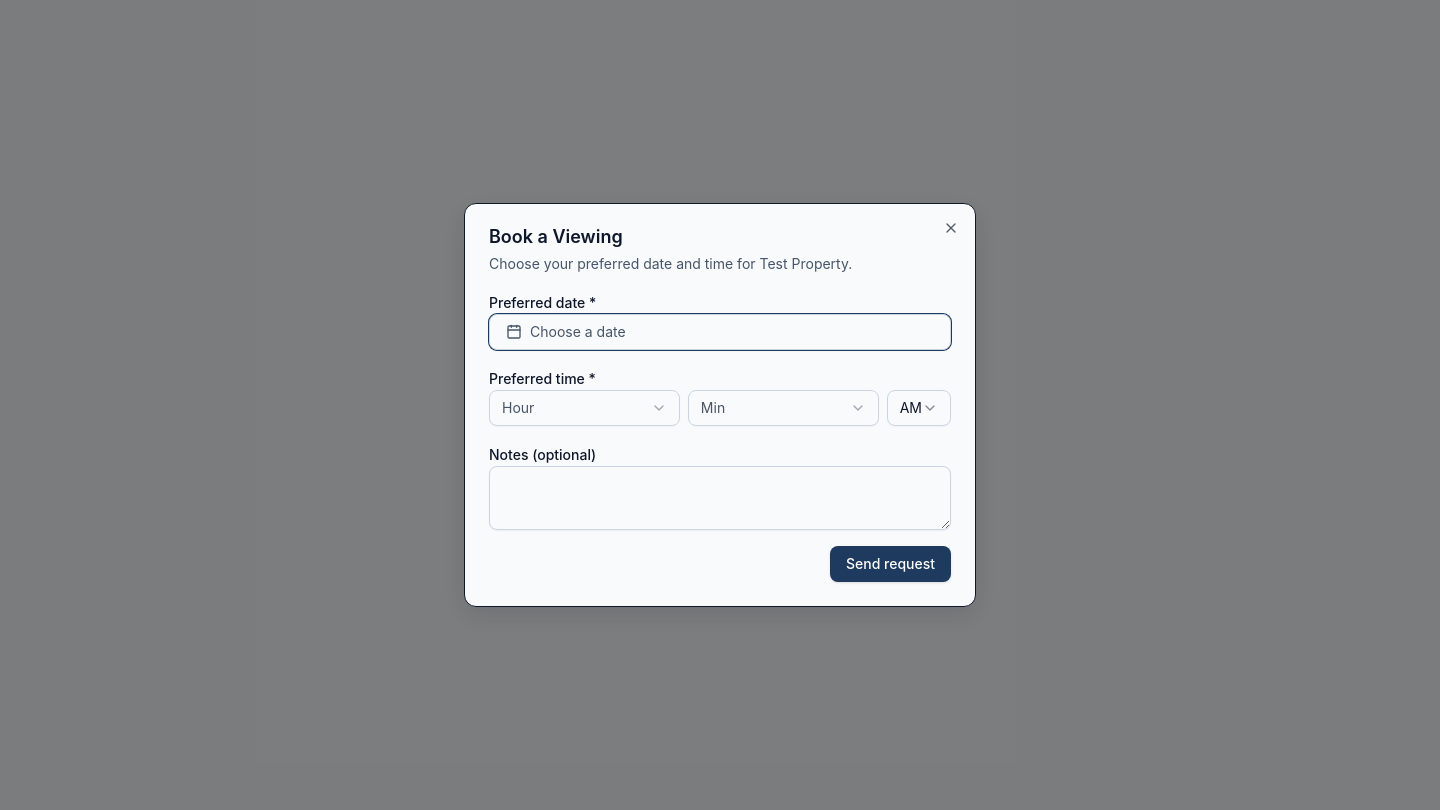
Scenario: BookingRequestDialog (component) › does not submit when a required field is missing
What coordinates should you click on to do the following:
click the button "Send request"
I would click on:
 (890, 564)
Its box is [830,546,951,582].
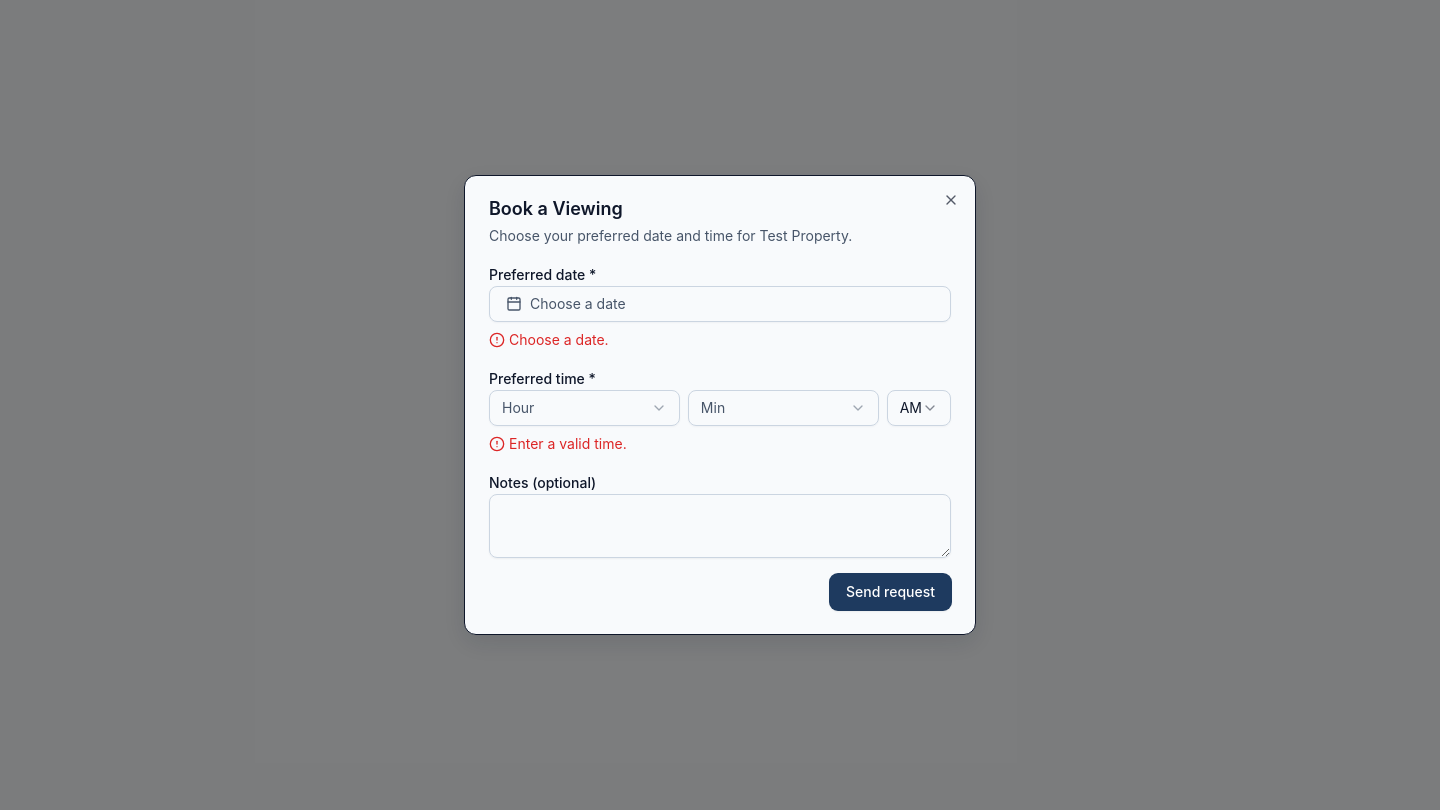
expect the message with id "requestedDate-error" shows "Choose a date": met, box [509,331,609,348]
